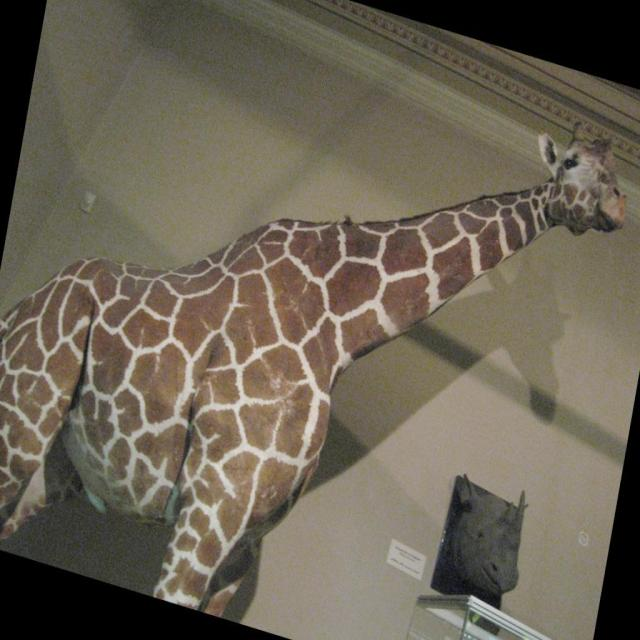Giraffe: (0, 107, 635, 613)
